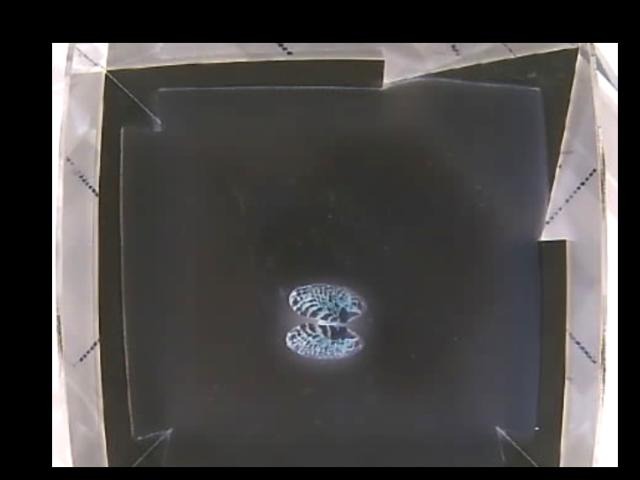Shell: (287, 285, 366, 359)
